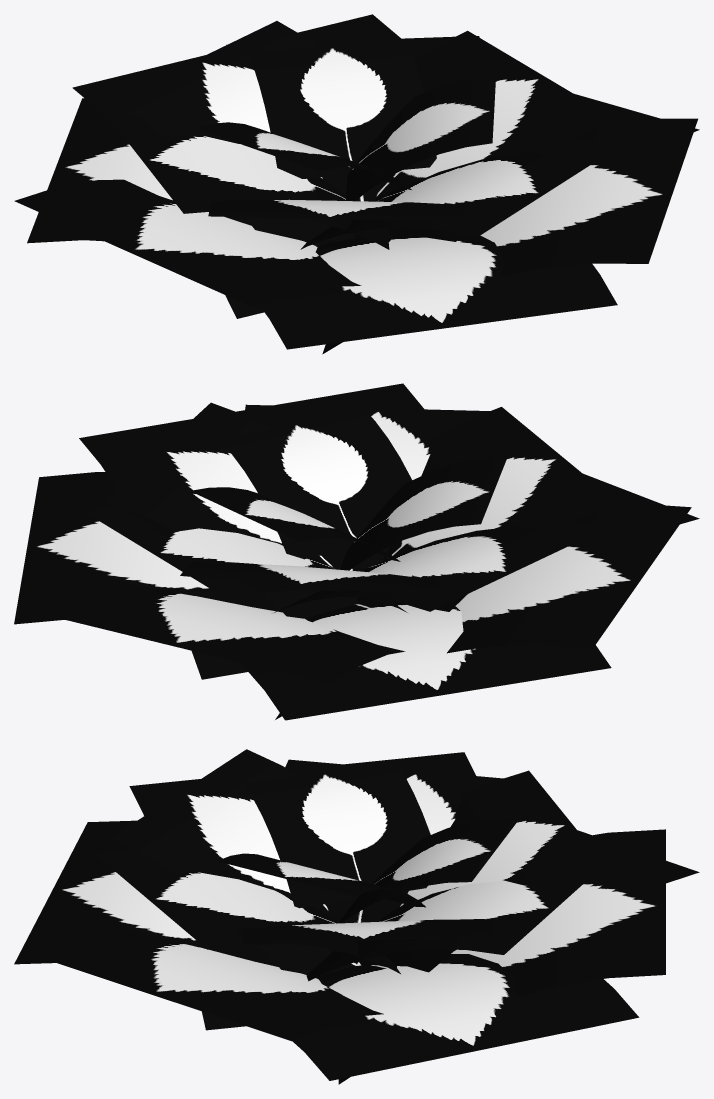
Rendered from Plant 2.fbx.
3 renders of one model, top to bottom at view 1: azimuth 30°, elevation 25°; view 2: azimuth 150°, elevation 25°; view 3: azimuth 270°, elevation 25°, orthographic.
Parts seen in each view (by area): view 1: Plane004, Plane003, Plane005, Plane015, Plane010, Plane012, Plane009, Plane008, Plane013, Plane006, Plane011, Plane001 (+3 smaller); view 2: Plane006, Plane005, Plane001, Plane013, Plane002, Plane010, Plane011, Plane009, Plane014, Plane007, Plane003, Plane008 (+3 smaller); view 3: Plane002, Plane003, Plane001, Plane014, Plane011, Plane012, Plane008, Plane004, Plane007, Plane015, Plane009, Plane010 (+2 smaller).
Boxes of the visible parts, x1,y1,x2,y2 form: Plane004: (259,234,617,349); Plane003: (322,118,697,354); Plane005: (14,179,361,307); Plane015: (248,38,436,178); Plane010: (354,30,614,241); Plane012: (110,21,354,241); Plane009: (104,110,392,249); Plane008: (300,139,616,249); Plane013: (346,74,495,201); Plane006: (27,98,357,245); Plane011: (208,199,465,221); Plane001: (72,14,400,318); Plane006: (238,603,611,720); Plane005: (275,503,691,719); Plane001: (28,577,405,684); Plane013: (219,407,411,559); Plane002: (14,472,282,624); Plane010: (105,402,357,618); Plane011: (357,407,617,611); Plane009: (274,522,599,612); Plane014: (340,456,507,570); Plane007: (85,505,407,612); Plane003: (79,383,423,679); Plane008: (244,404,489,571); Plane002: (292,954,639,1080); Plane003: (22,924,383,1041); Plane001: (338,829,665,1084); Plane014: (244,760,430,908); Plane011: (110,749,345,974); Plane012: (358,770,609,972); Plane008: (96,849,400,973); Plane004: (14,820,356,969); Plane007: (306,857,610,981); Plane015: (338,817,520,923); Plane009: (285,759,503,950); Plane010: (238,919,495,945).
Size of the model in its own units: 81.34 by 21.7 by 78.42.
